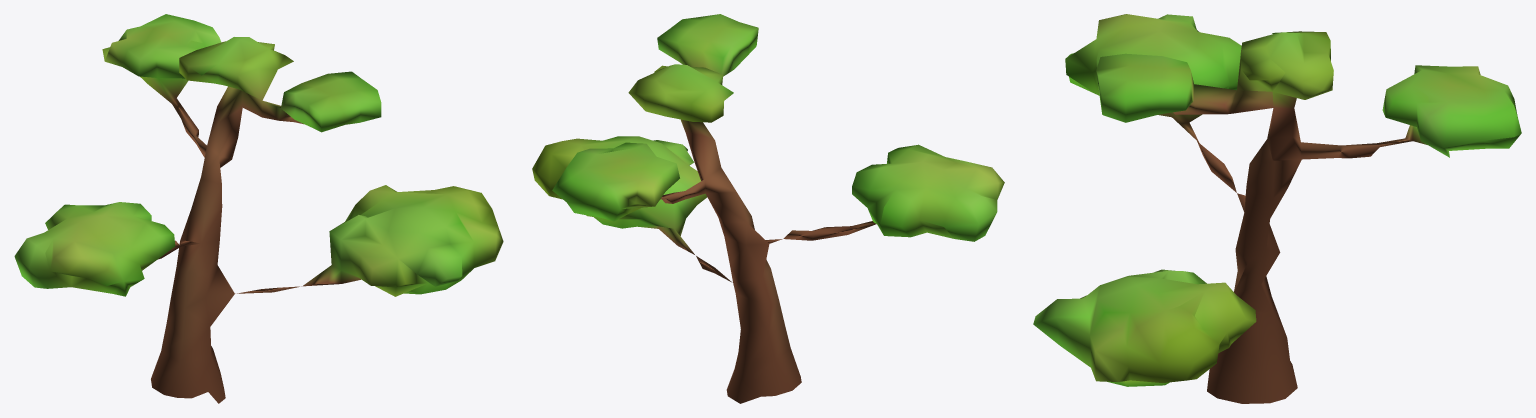
The model's file is cloud-tree-1-lod2.obj.
The picture shows the model from 3 angles, left to right: view 1: azimuth 30°, elevation 25°; view 2: azimuth 150°, elevation 25°; view 3: azimuth 270°, elevation 25°; orthographic projection. The views are drawn at different scales.
Visible parts, largest first — view 1: simplified; view 2: simplified; view 3: simplified.
Part boxes in pixels (x1,y1,x2,y2): simplified: [14, 14, 503, 403]; simplified: [532, 14, 1004, 403]; simplified: [1033, 14, 1521, 403].
Bounding box in the file's own units: 449 × 303 × 343.
